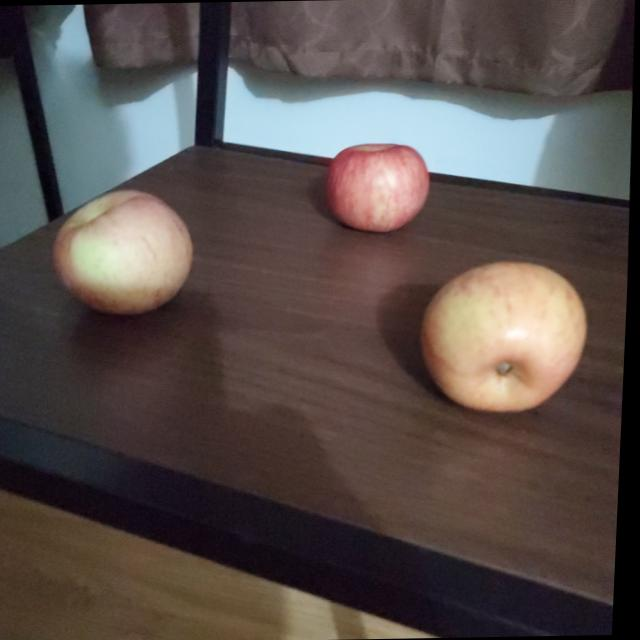apple: (422, 258, 596, 415), (50, 188, 196, 318), (325, 144, 433, 232)
